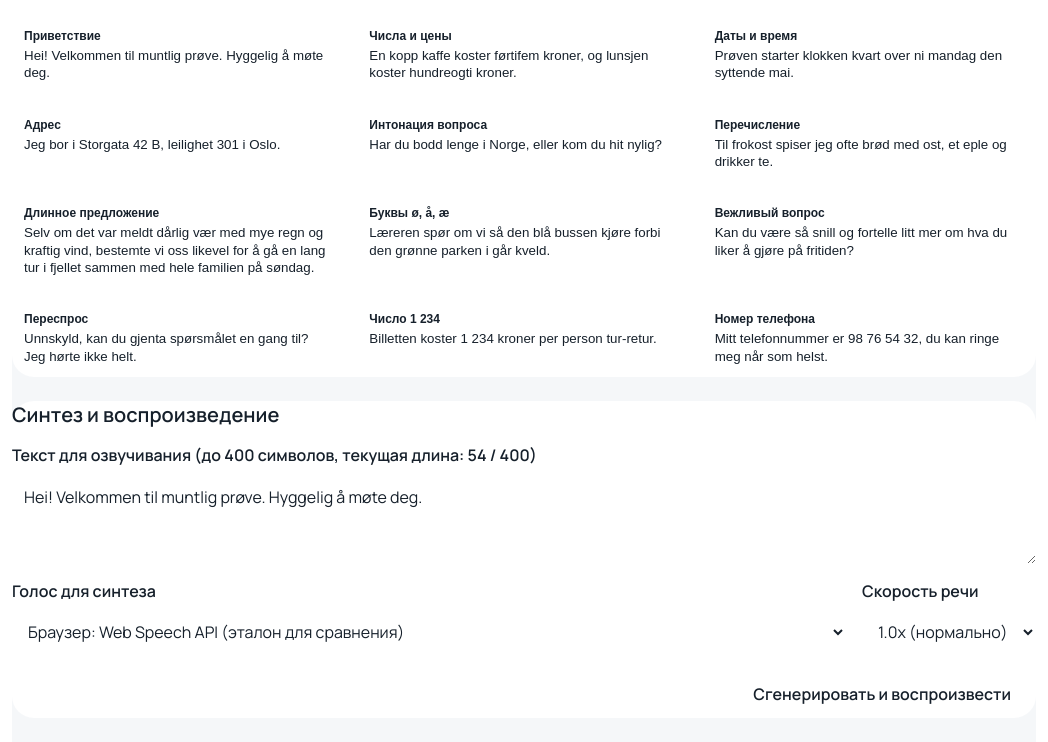
Scenario: TTS Lab UI & Ratings (Issue #52) › synthesizes neural voice via /api/lab/tts, shows latency, chars, and out-of-EU badge
The image size is (1048, 742).
Select ElevenLabs voice (out of EU)
Select "ElevenLabs: 21m00Tcm4TlvDq8ikWAM (не проверено) (вне ЕС)" in the dropdown labelled "Голос для синтеза" at point(429, 632), box [12,610,846,654]
(page scrolled)
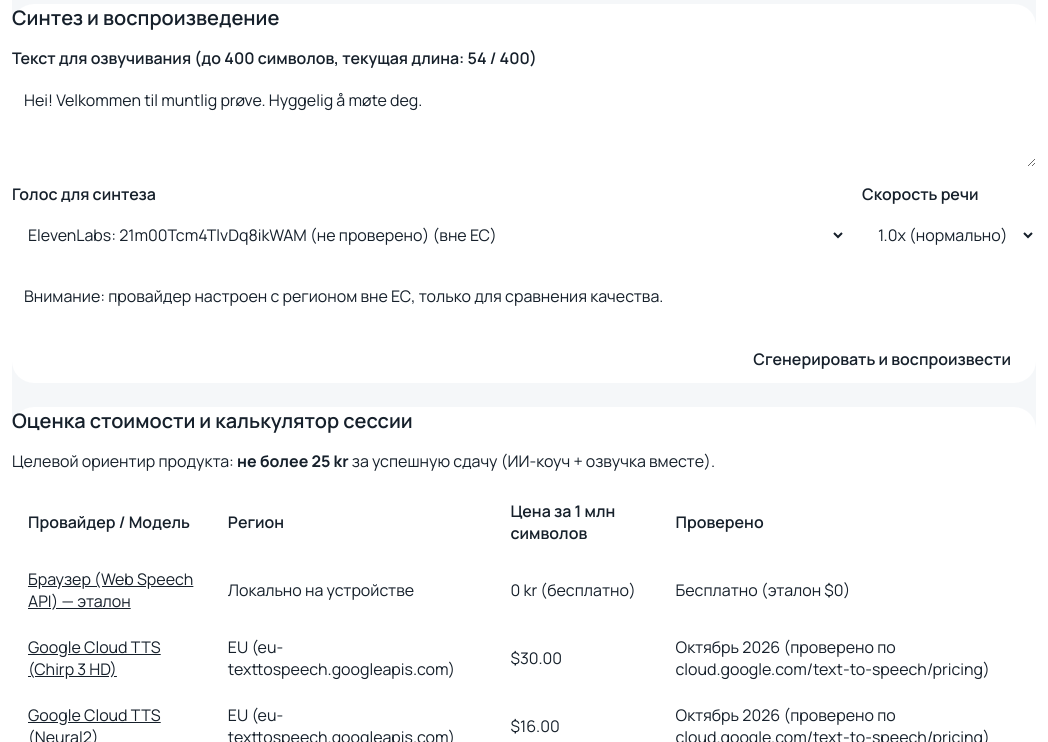
Click the button "Сгенерировать и воспроизвести".
click(882, 359)  # box [728,335,1036,383]
(page scrolled)
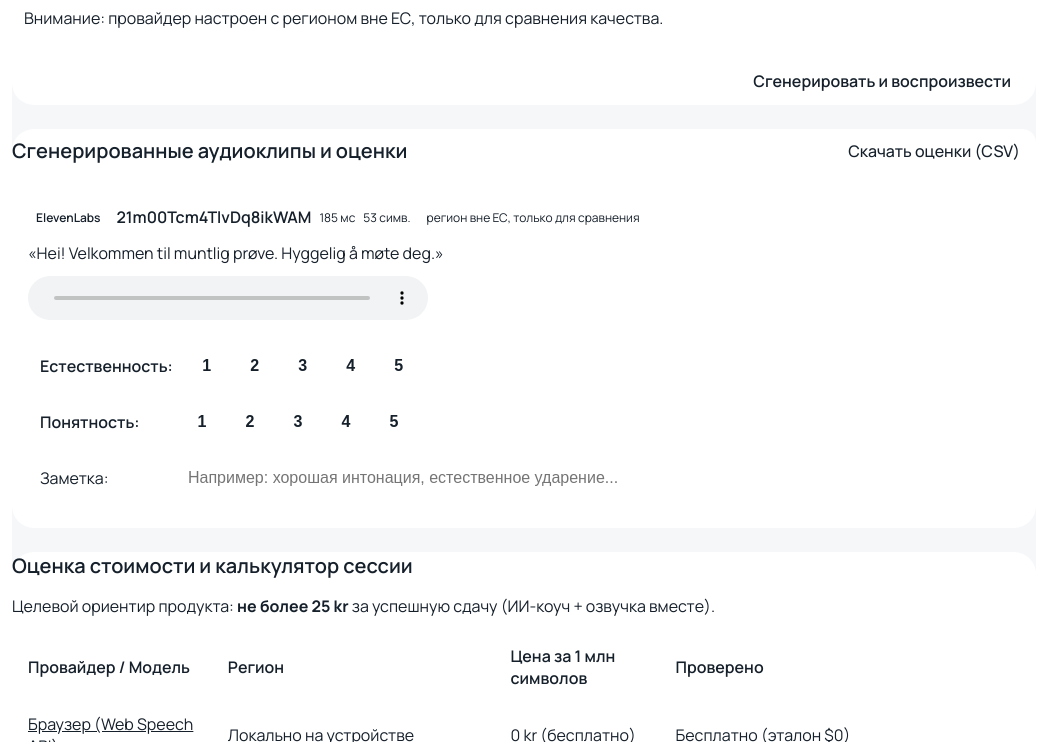
Expected: the element with test id "ttsClipCard" shows "ElevenLabs", [36,209,100,226]
Expected: the element with test id "ttsClipCard" shows "185 мс", [12,189,1036,528]
Expected: the element with test id "ttsClipCard" shows "53 симв.", [12,189,1036,528]
